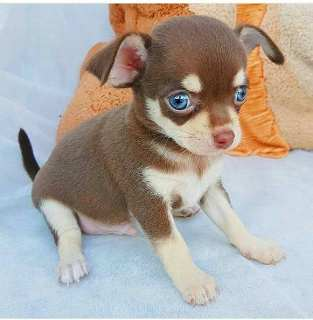chihuahua: (4, 16, 298, 310)
